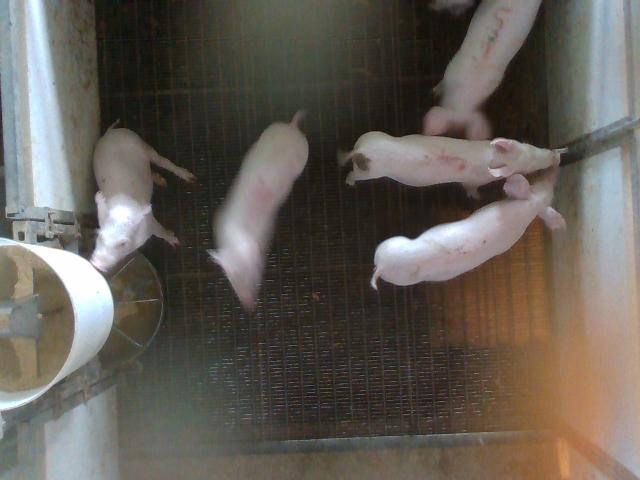pig-3: (422, 0, 541, 140)
pig-4: (209, 111, 309, 309)
pig-5: (340, 131, 560, 196)
